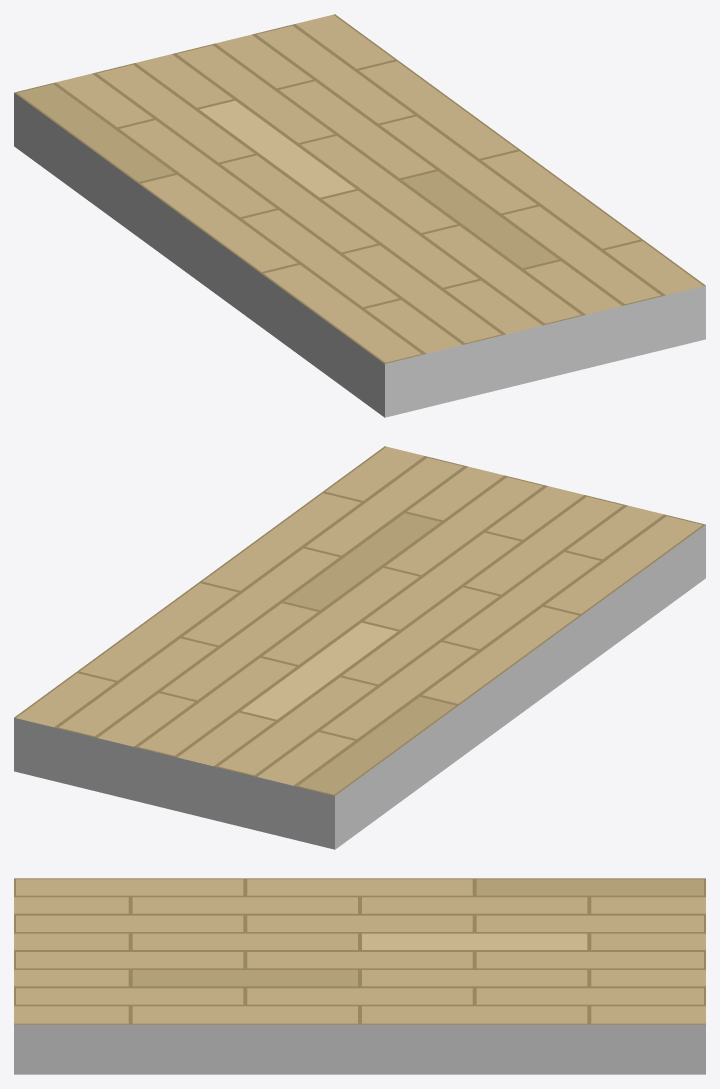
Rendered from Floor13_02.fbx.
The picture shows the model from 3 angles, top to bottom: view 1: azimuth 30°, elevation 25°; view 2: azimuth 150°, elevation 25°; view 3: azimuth 270°, elevation 25°; orthographic projection. The views are drawn at different scales.
Parts seen in each view (by area): view 1: Floor13_02; view 2: Floor13_02; view 3: Floor13_02.
Boxes of the visible parts, box(x1,y1,x2,y2) form: Floor13_02: box(14, 14, 705, 417); Floor13_02: box(14, 446, 705, 849); Floor13_02: box(14, 878, 705, 1074).
Bounding box in the file's own units: 125 × 20 × 250.
